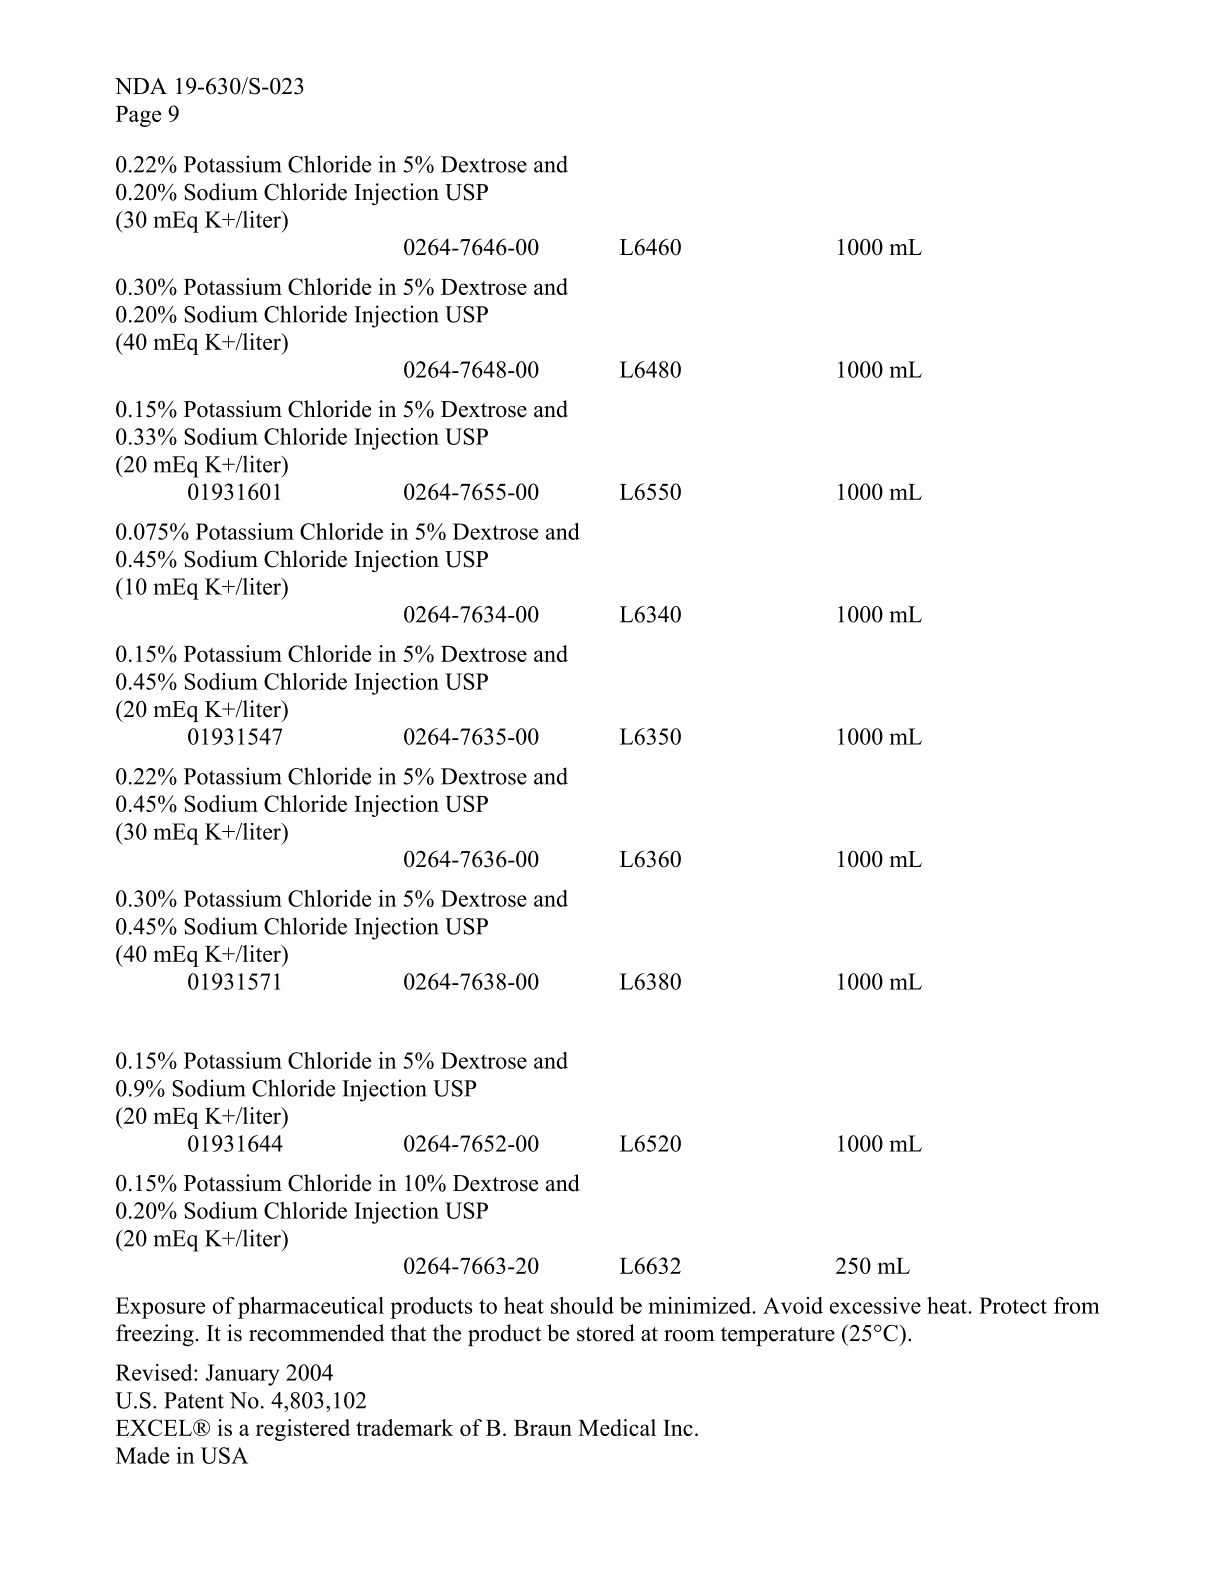nolines: (113, 150, 926, 1277)
